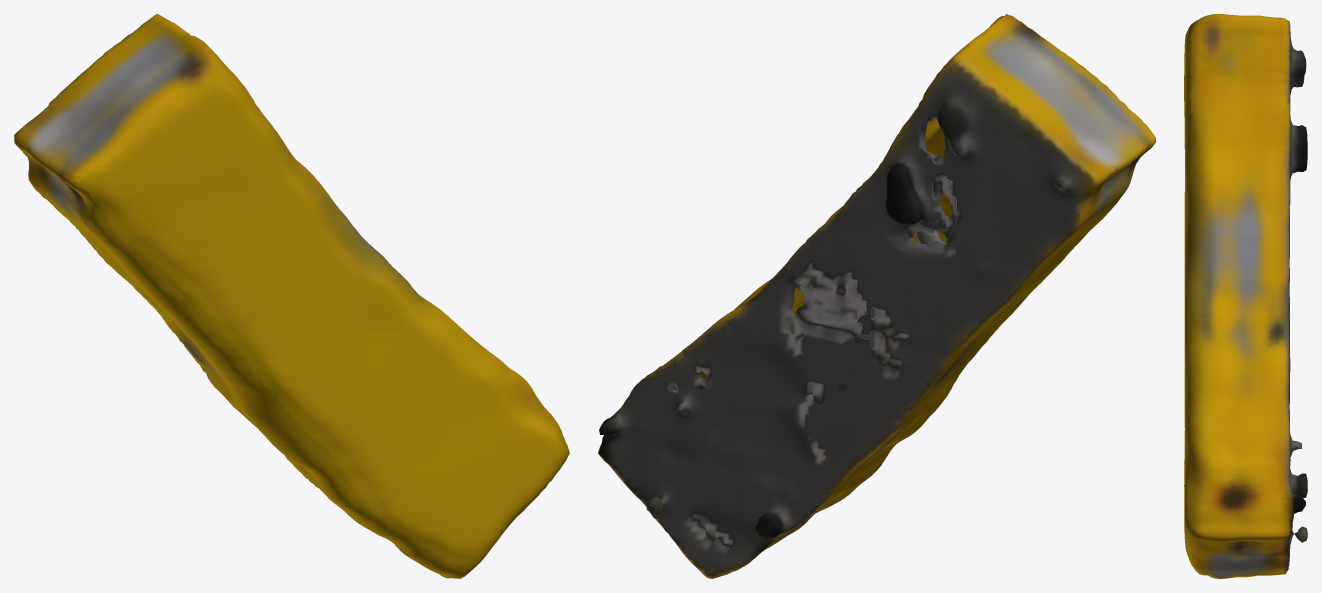
Rendered from school_bus1.glb.
3 renders of one model, left to right at view 1: azimuth 30°, elevation 25°; view 2: azimuth 150°, elevation 25°; view 3: azimuth 270°, elevation 25°, orthographic. The views are drawn at different scales.
Bounding box in the file's own units: 0.881 × 0.9988 × 0.2394.
